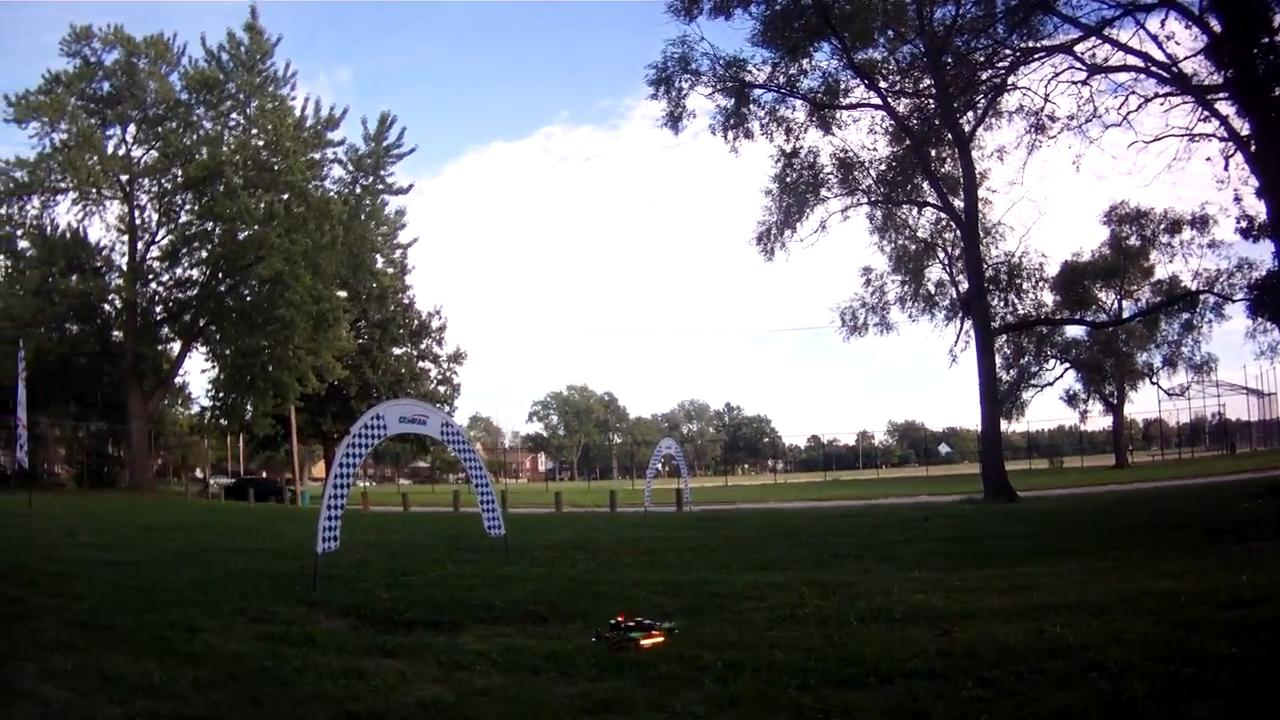gate: (312, 394, 512, 555), (641, 435, 695, 510)
